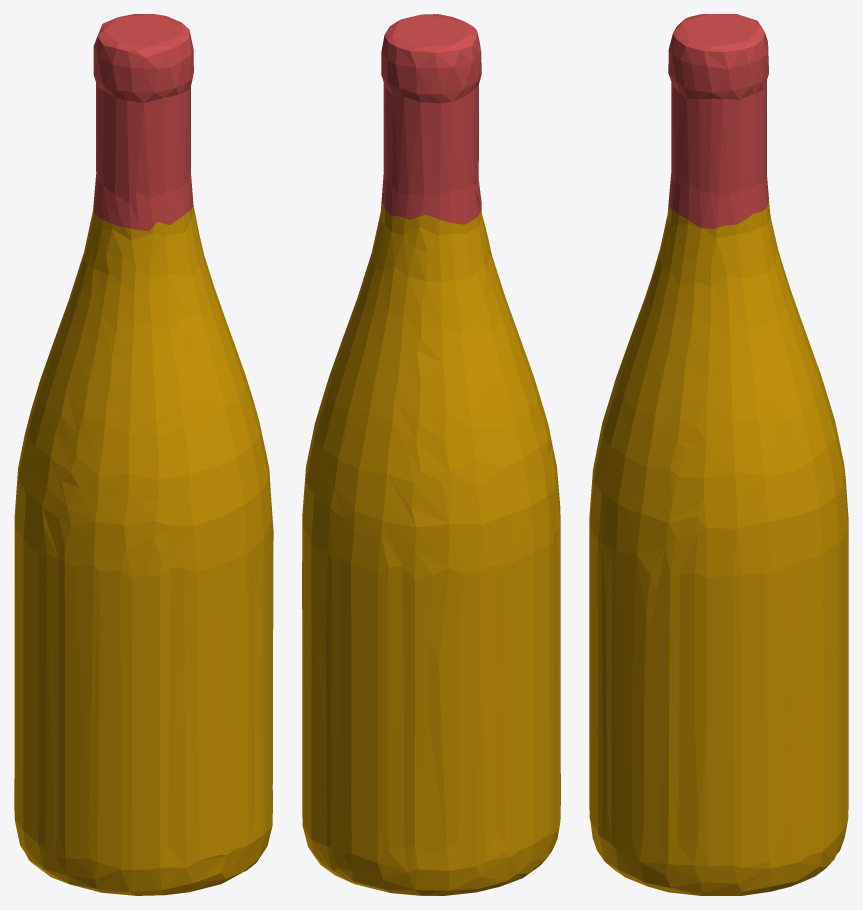
Rendered from mode_1_2pcs.glb.
The picture shows the model from 3 angles, left to right: view 1: azimuth 30°, elevation 25°; view 2: azimuth 150°, elevation 25°; view 3: azimuth 270°, elevation 25°; orthographic projection.
Parts seen in each view (by area): view 1: piece_0.obj, piece_1.obj; view 2: piece_0.obj, piece_1.obj; view 3: piece_0.obj, piece_1.obj.
Part boxes in pixels (bbox=[...]): piece_0.obj: bbox=[14, 205, 273, 895]; piece_1.obj: bbox=[93, 14, 193, 231]; piece_0.obj: bbox=[302, 204, 560, 895]; piece_1.obj: bbox=[381, 14, 481, 224]; piece_0.obj: bbox=[589, 200, 848, 895]; piece_1.obj: bbox=[668, 14, 768, 228].
Bounding box in the file's own units: 0.2867 × 1 × 0.2866.
